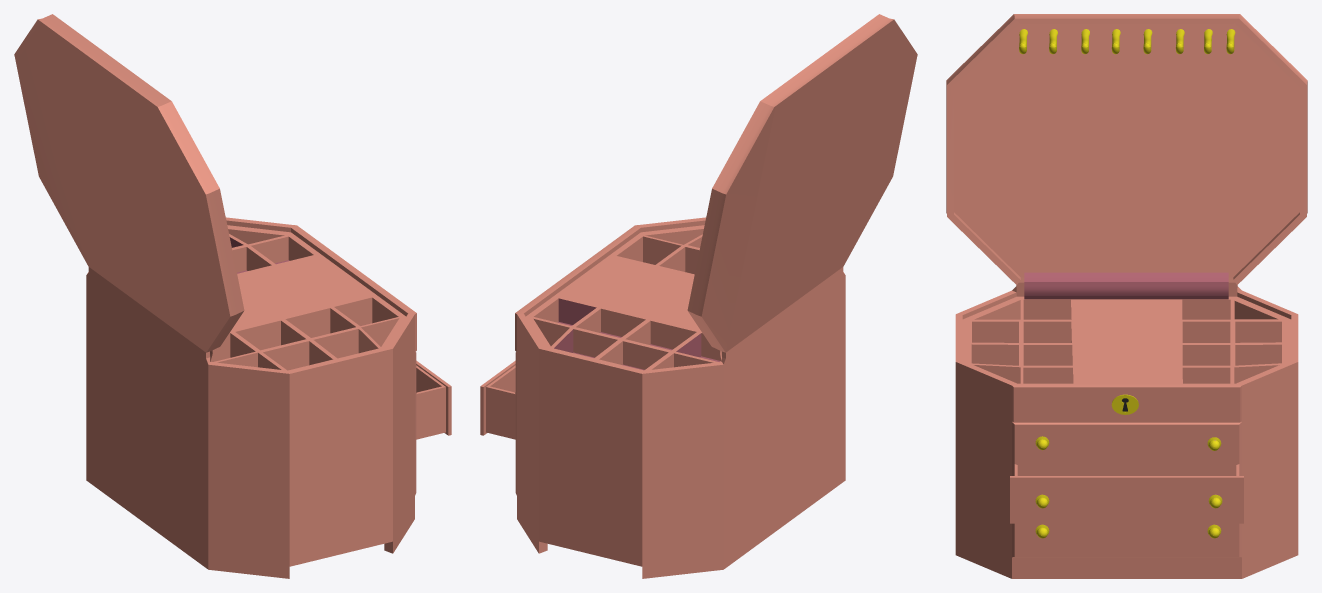
File: JewleryBox(v1.Textured).fbx
The picture shows the model from 3 angles, left to right: view 1: azimuth 30°, elevation 25°; view 2: azimuth 150°, elevation 25°; view 3: azimuth 270°, elevation 25°; orthographic projection. The views are drawn at different scales.
Parts seen in each view (by area): view 1: JewelryBox; view 2: JewelryBox; view 3: JewelryBox.
Boxes of the visible parts, x1=… form: JewelryBox: x1=14, y1=14, x2=451, y2=578; JewelryBox: x1=480, y1=14, x2=917, y2=578; JewelryBox: x1=946, y1=14, x2=1307, y2=578.
Size of the model in its own units: 742 by 1119 by 816.
